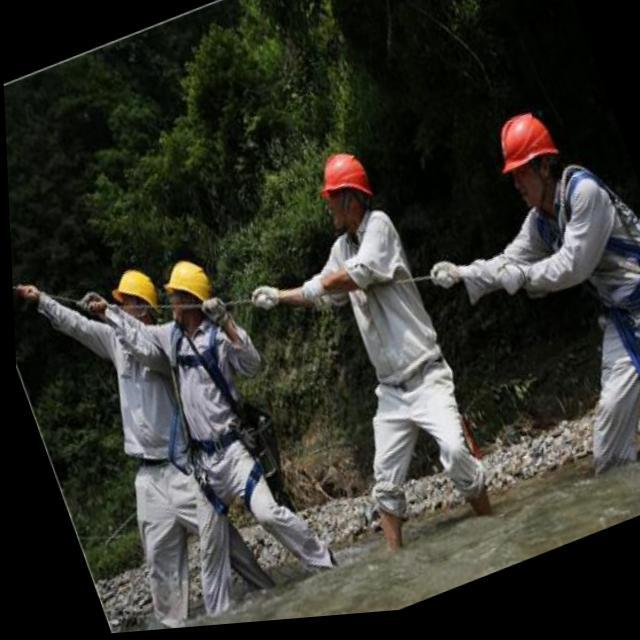belt: (136, 378, 292, 546), (575, 259, 640, 414)
